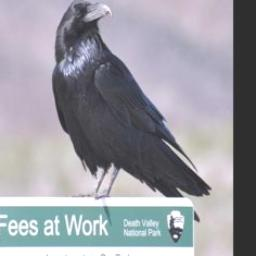Crow: (51, 0, 213, 224)
